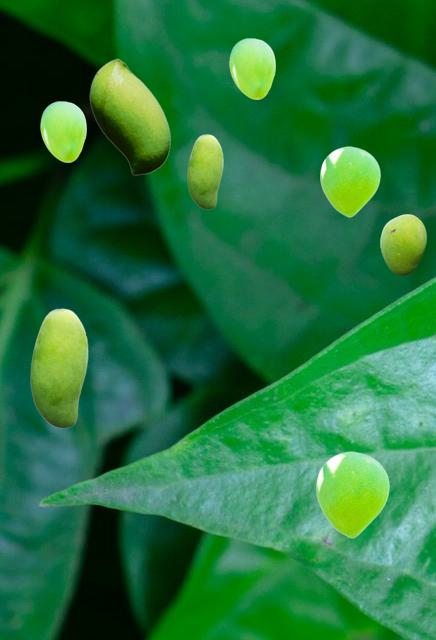green_mango: (89, 58, 169, 174), (30, 308, 87, 427), (316, 451, 388, 537), (320, 146, 379, 216), (229, 38, 274, 98), (40, 101, 85, 161), (380, 214, 425, 274), (187, 134, 222, 208)
